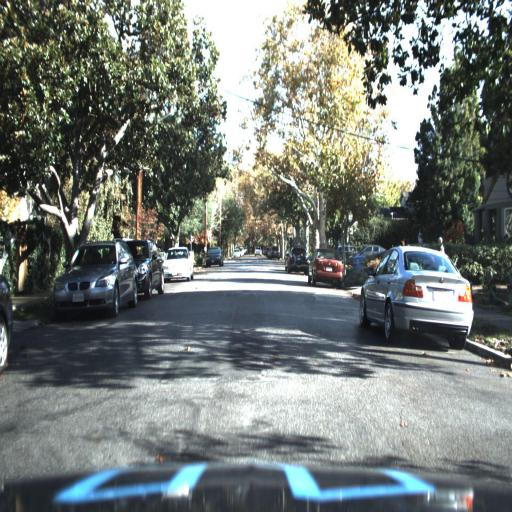car: (358, 241, 477, 342), (49, 240, 139, 316), (126, 233, 166, 296), (306, 248, 349, 290), (347, 236, 389, 267), (159, 245, 192, 282), (286, 244, 309, 273), (206, 241, 221, 266), (267, 241, 282, 262)
